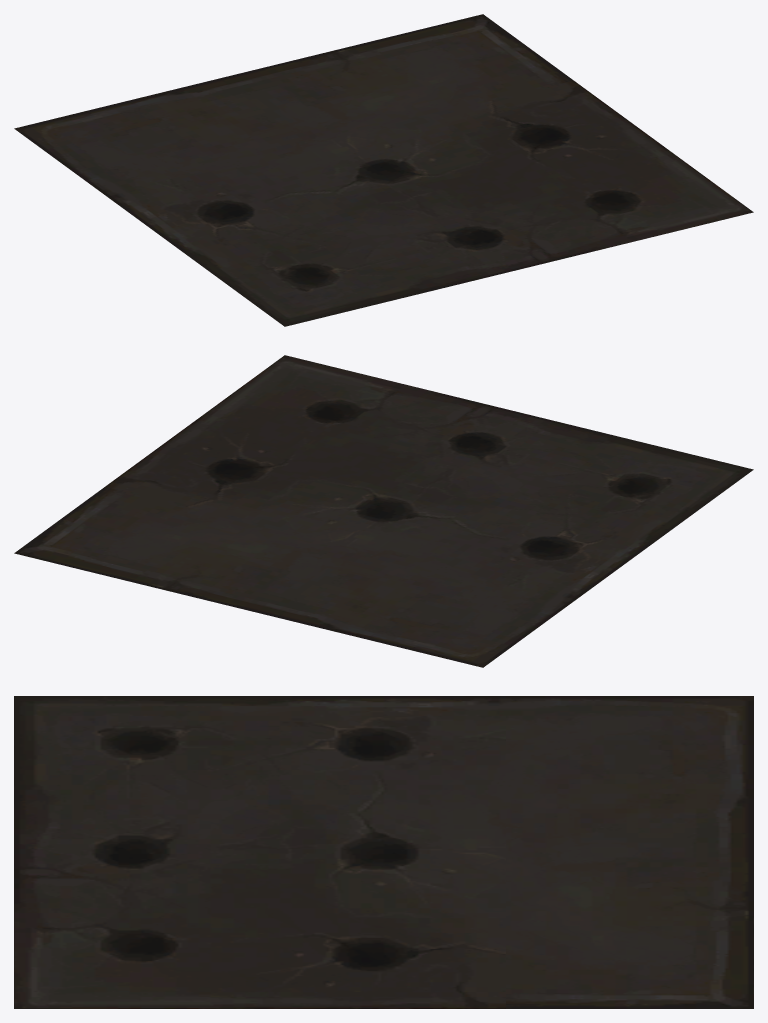
The model's file is fortress_runner_trap_02.fbx.
3 renders of one model, top to bottom at view 1: azimuth 30°, elevation 25°; view 2: azimuth 150°, elevation 25°; view 3: azimuth 270°, elevation 25°, orthographic. The views are drawn at different scales.
Visible parts, largest first — view 1: fortress_runner_trap_02-0; view 2: fortress_runner_trap_02-0; view 3: fortress_runner_trap_02-0.
Boxes of the visible parts, x1,y1,x2,y2 form: fortress_runner_trap_02-0: (14,14,753,326); fortress_runner_trap_02-0: (14,355,753,667); fortress_runner_trap_02-0: (14,696,753,1008).
Bounding box in the file's own units: 4 × 0 × 4.
